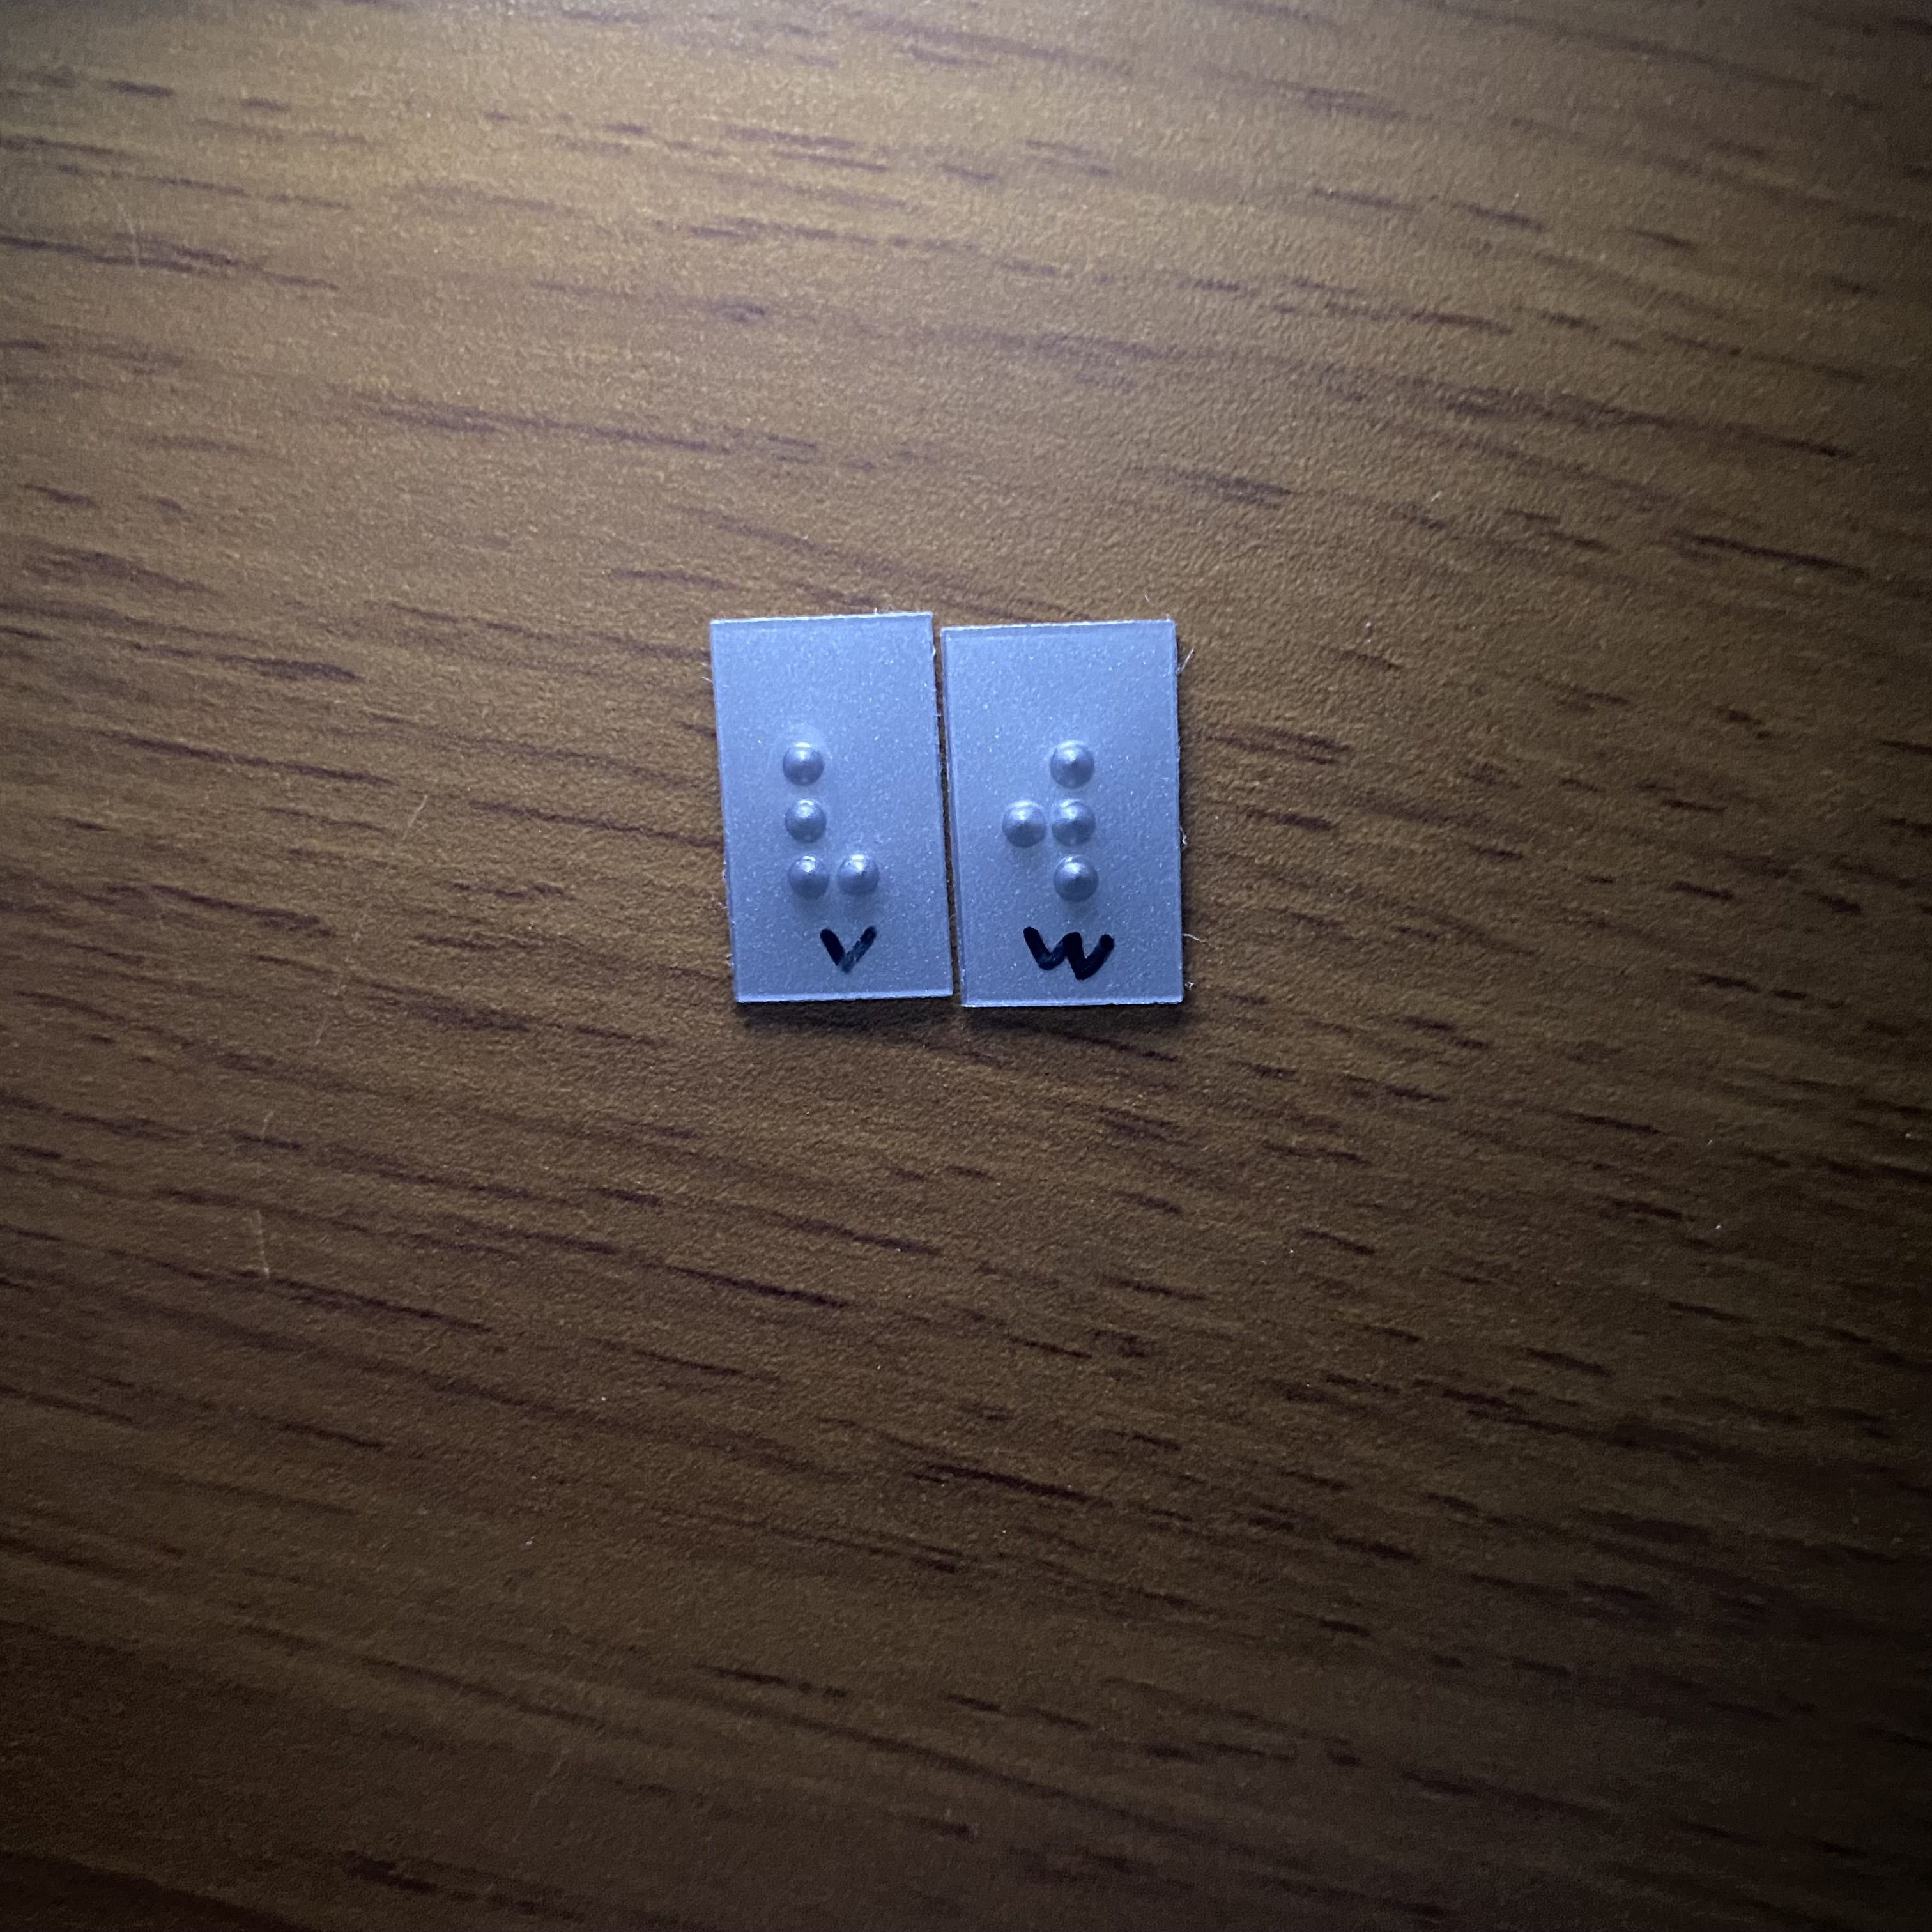v: (767, 716, 906, 907)
w: (994, 738, 1124, 914)
